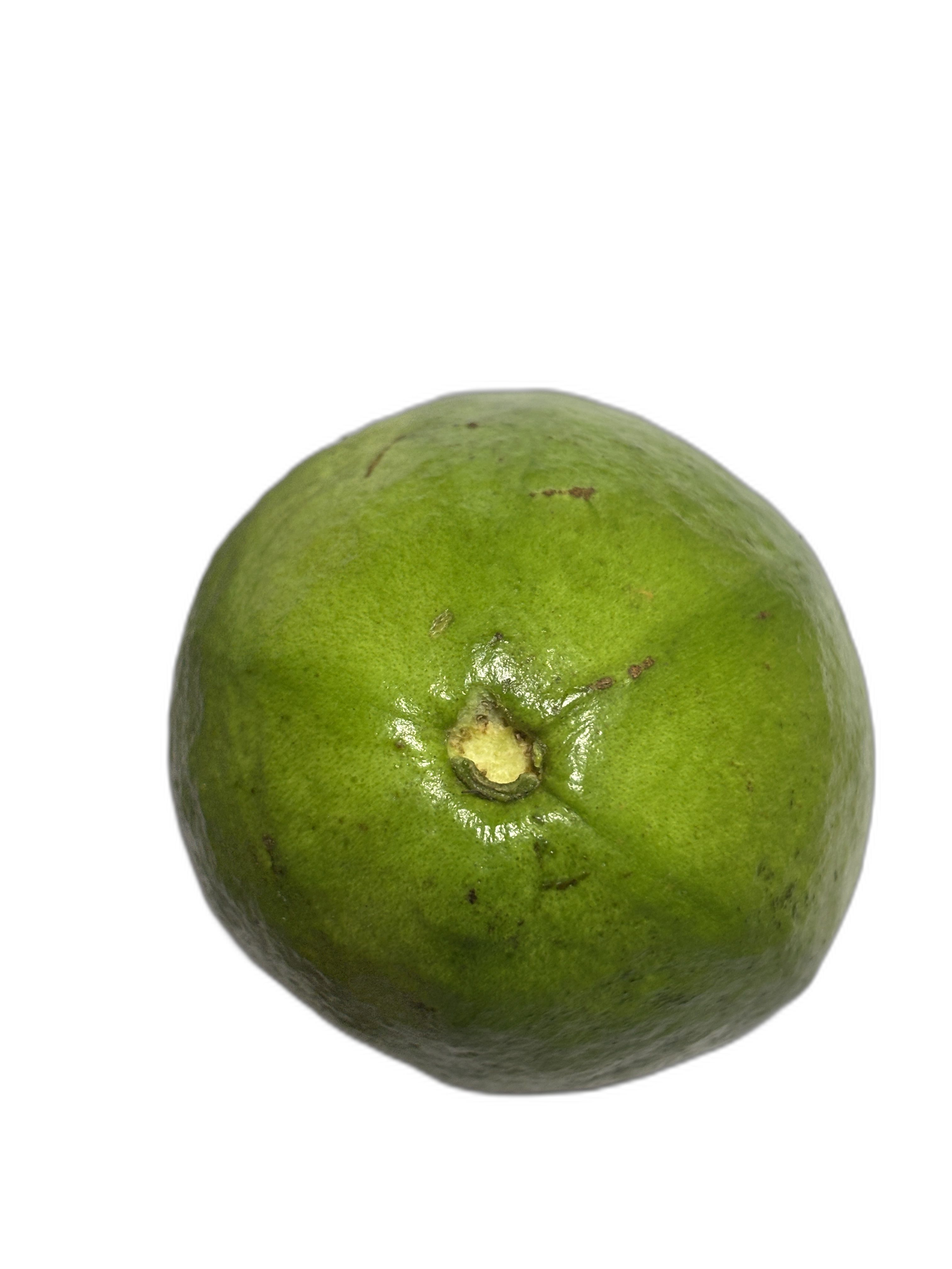guava: (79, 156, 935, 1156)
